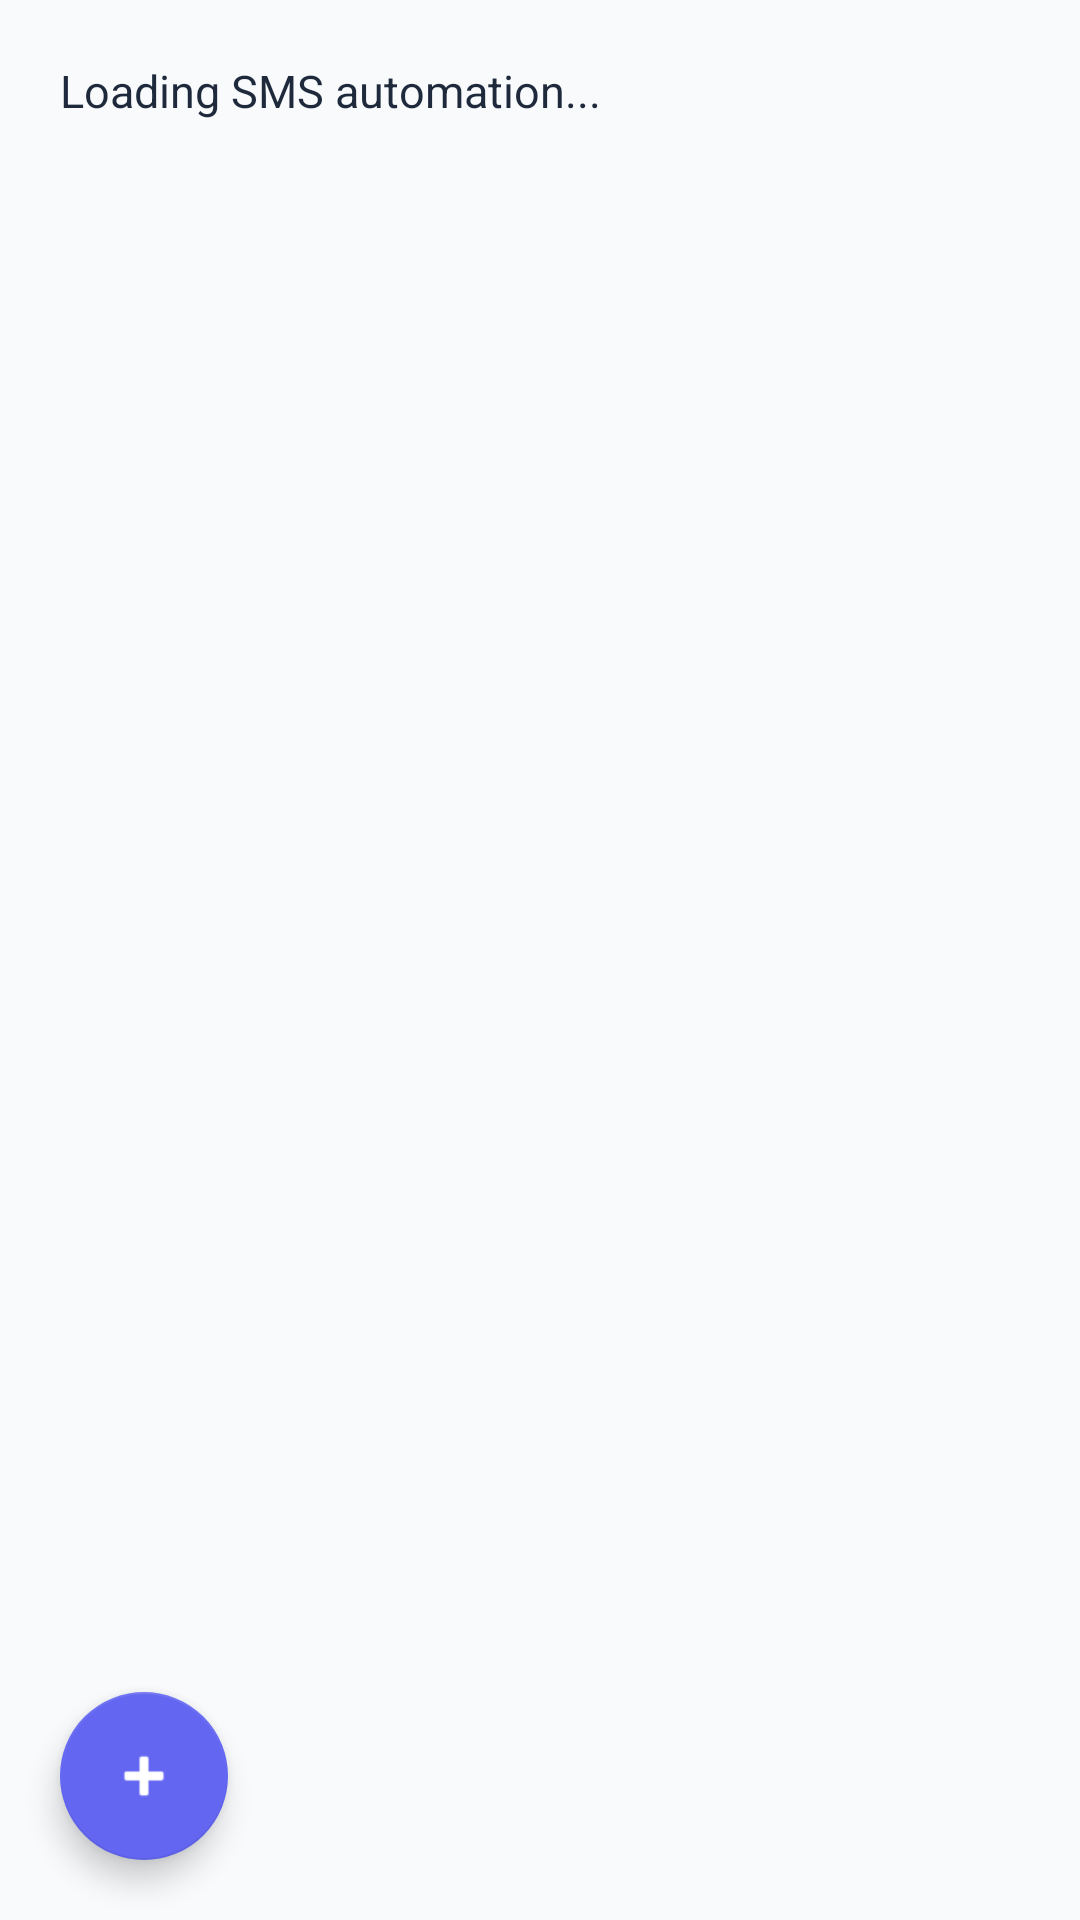

Screen size 1080px x 1920px. Icon name, then its center in pixels as (x=x, y=y):
Add SMS mapping: (x=144, y=1776)
